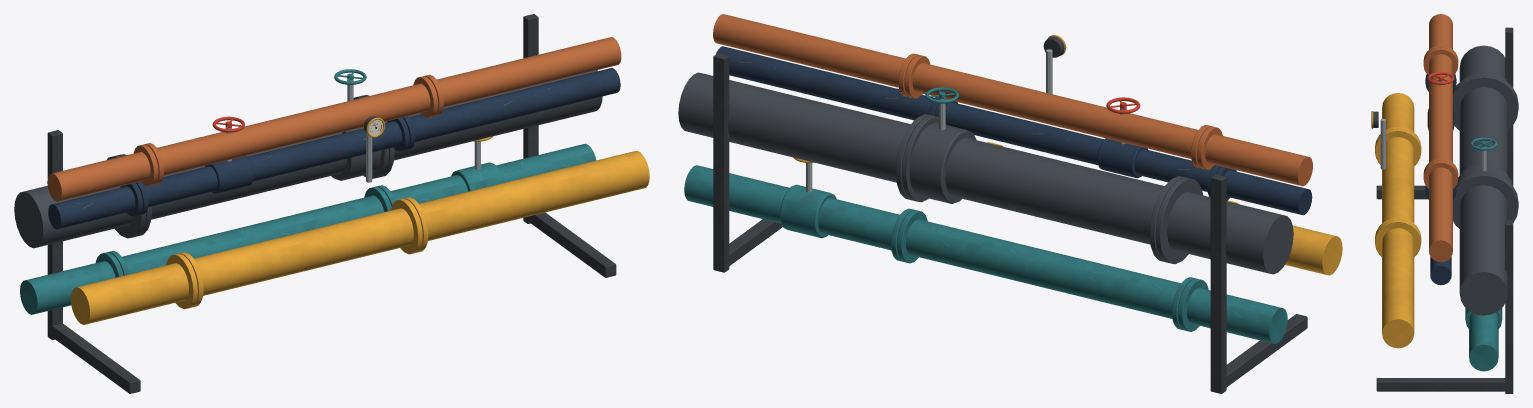
Rendered from PipeBankB.glb.
The picture shows the model from 3 angles, left to right: view 1: azimuth 30°, elevation 25°; view 2: azimuth 150°, elevation 25°; view 3: azimuth 270°, elevation 25°; orthographic projection. The views are drawn at different scales.
Visible parts, largest first — view 1: PipeBankB_Body; view 2: PipeBankB_Body; view 3: PipeBankB_Body, PipeBankB_Valve0, PipeBankB_Valve4.
Boxes of the visible parts, <box> form: PipeBankB_Body: <box>14,14,649,393</box>; PipeBankB_Body: <box>678,14,1342,393</box>; PipeBankB_Body: <box>1371,14,1518,393</box>; PipeBankB_Valve0: <box>1470,137,1497,150</box>; PipeBankB_Valve4: <box>1427,72,1454,84</box>.
Bounding box in the file's own units: 4 × 1.52 × 1.1.
11 materials, 6 textured.
